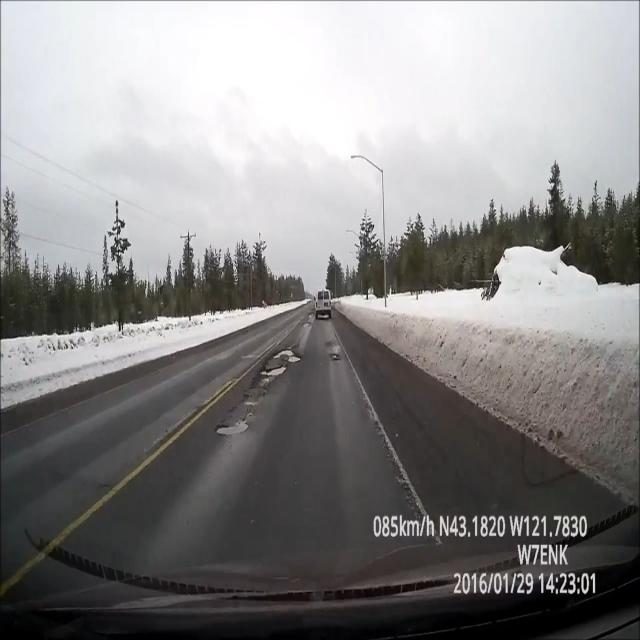Pothole: (248, 343, 306, 394), (219, 402, 255, 448)
